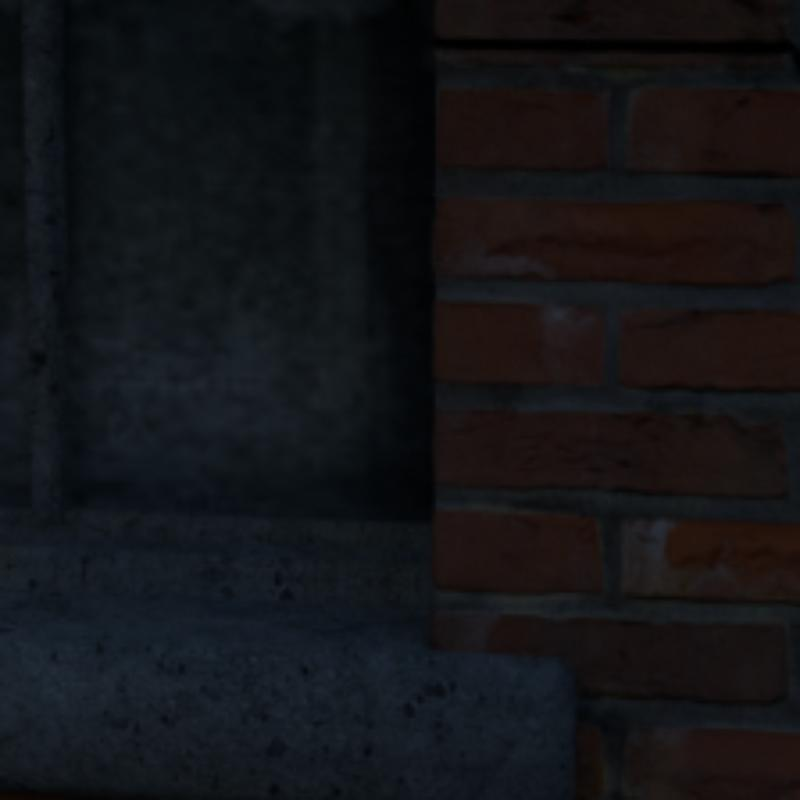crack: (436, 39, 796, 71)
